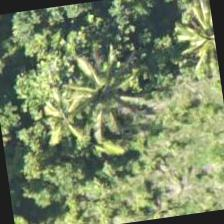Kelapa_Sawit: (55, 44, 158, 146), (12, 67, 114, 169), (156, 0, 221, 91)
